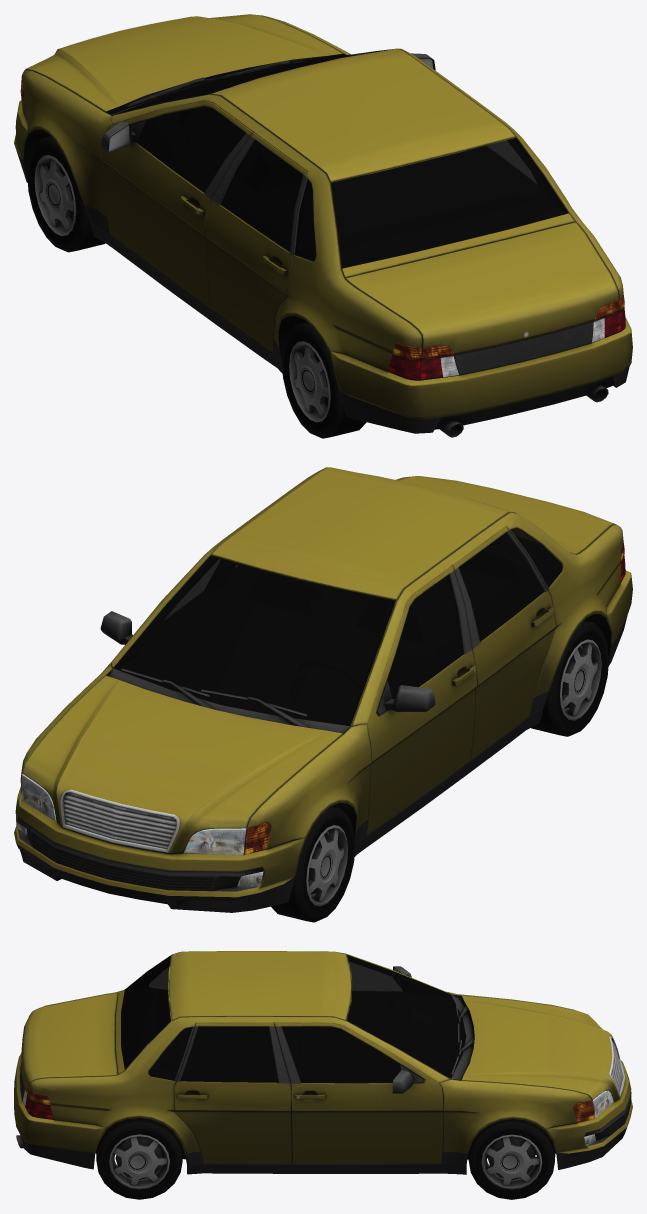
Rendered from sedan.glb.
3 renders of one model, top to bottom at view 1: azimuth 30°, elevation 25°; view 2: azimuth 150°, elevation 25°; view 3: azimuth 270°, elevation 25°, orthographic. The views are drawn at different scales.
Parts seen in each view (by area): view 1: body, wheel_rl, wheel_fl; view 2: body, wheel_fl, wheel_rl; view 3: body, wheel_rr, wheel_fr.
Boxes of the visible parts, <box> form: body: <box>14,14,632,437</box>; wheel_rl: <box>281,322,366,438</box>; wheel_fl: <box>27,136,105,252</box>; body: <box>14,467,632,912</box>; wheel_fl: <box>271,806,355,922</box>; wheel_rl: <box>531,620,608,736</box>; body: <box>14,951,632,1174</box>; wheel_rr: <box>96,1118,182,1199</box>; wheel_fr: <box>468,1119,555,1199</box>.
Bounding box in the file's own units: 2.18 × 1.51 × 4.91.
4 materials, 3 textured.
